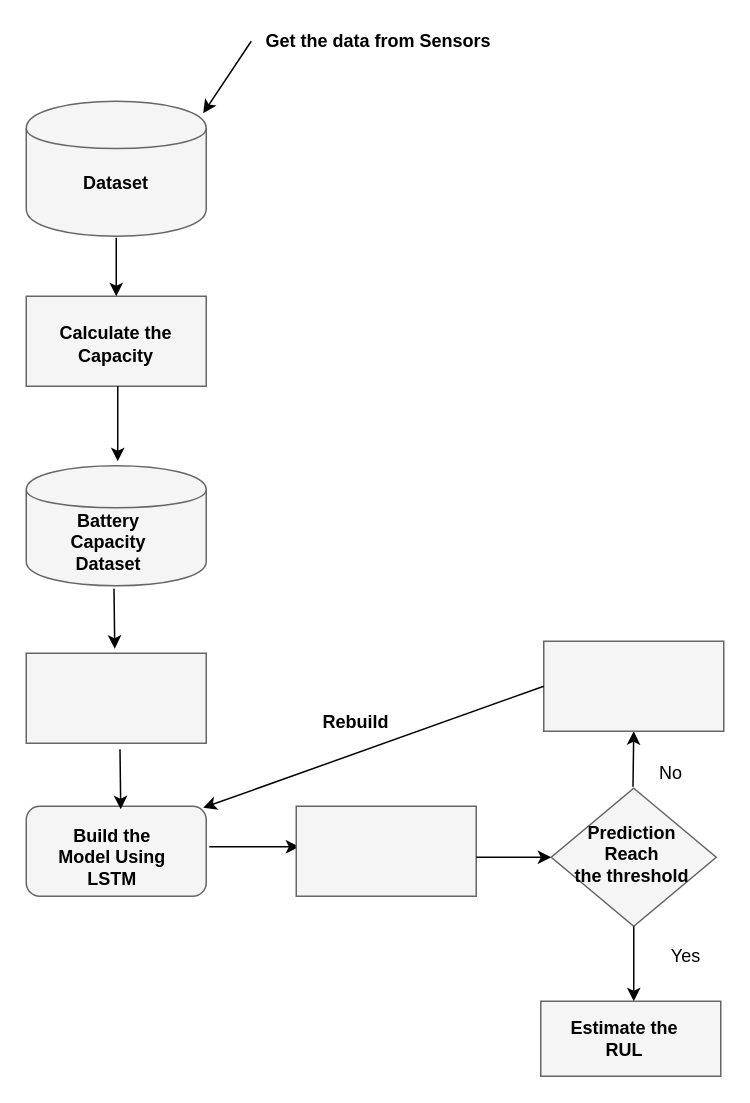
The diagram is 750 pixels wide and 1103 high, and some of its shapes have lost their labels. The centre of each missing label's shape, as x and y in pixels:
"Add the prediction cycles to the training dataset" goes at (633,685).
"Predicts the next 10 cycles" goes at (385,850).
"Prepare The Data" goes at (115,697).
